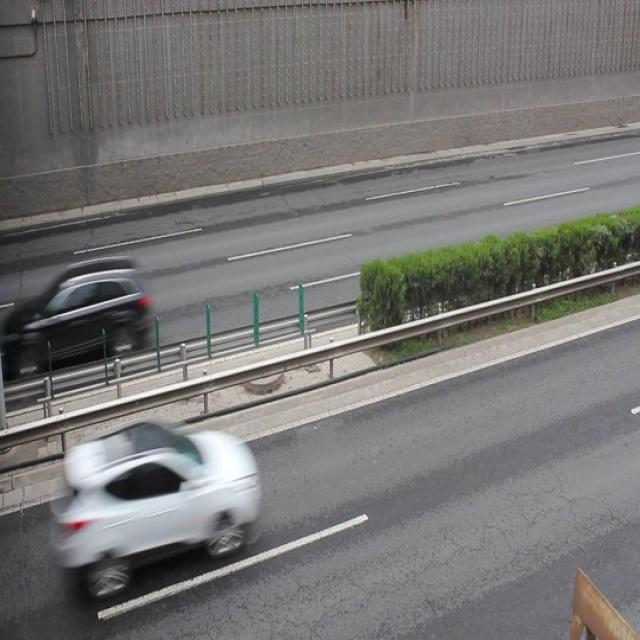car: (58, 424, 256, 594), (24, 258, 148, 370)
